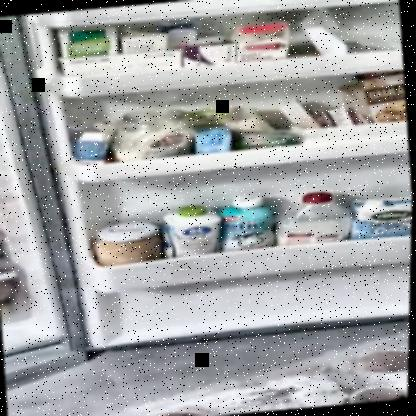heavy_cream: (195, 124, 237, 155)
milk: (165, 204, 223, 256), (357, 196, 412, 239)
